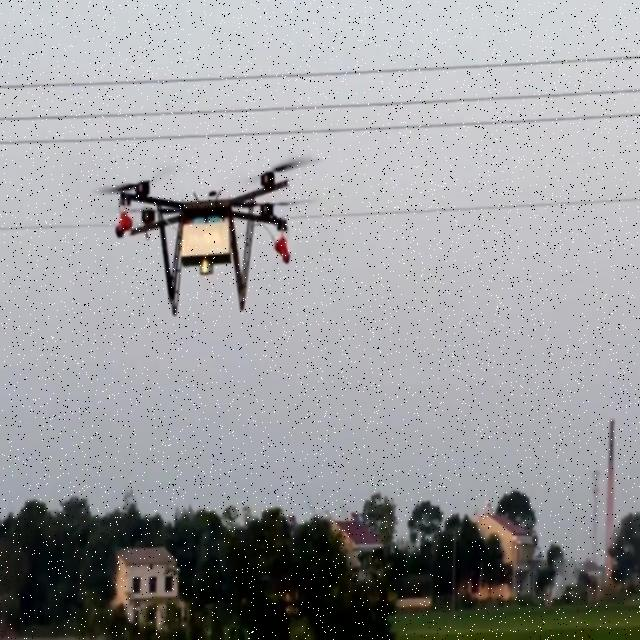UAV: (112, 160, 296, 319)
